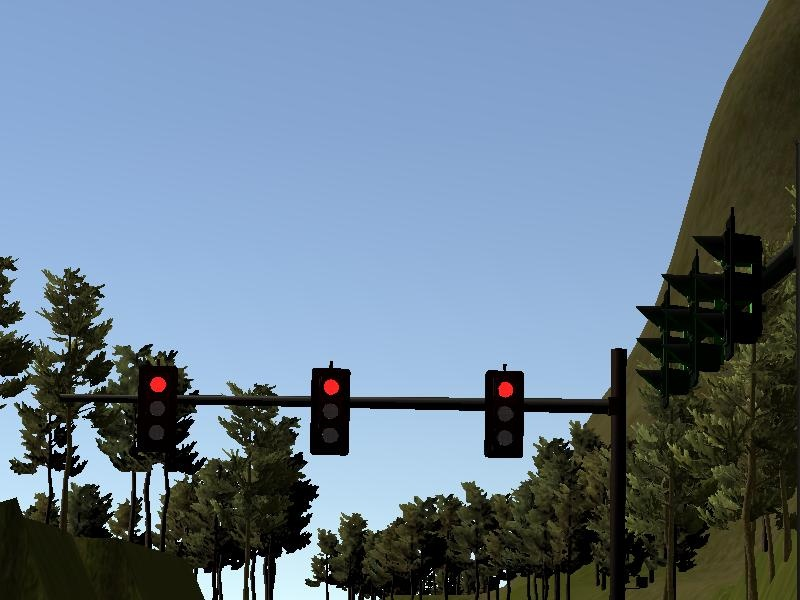red: (483, 369, 528, 461), (138, 363, 178, 453), (311, 363, 348, 457)
